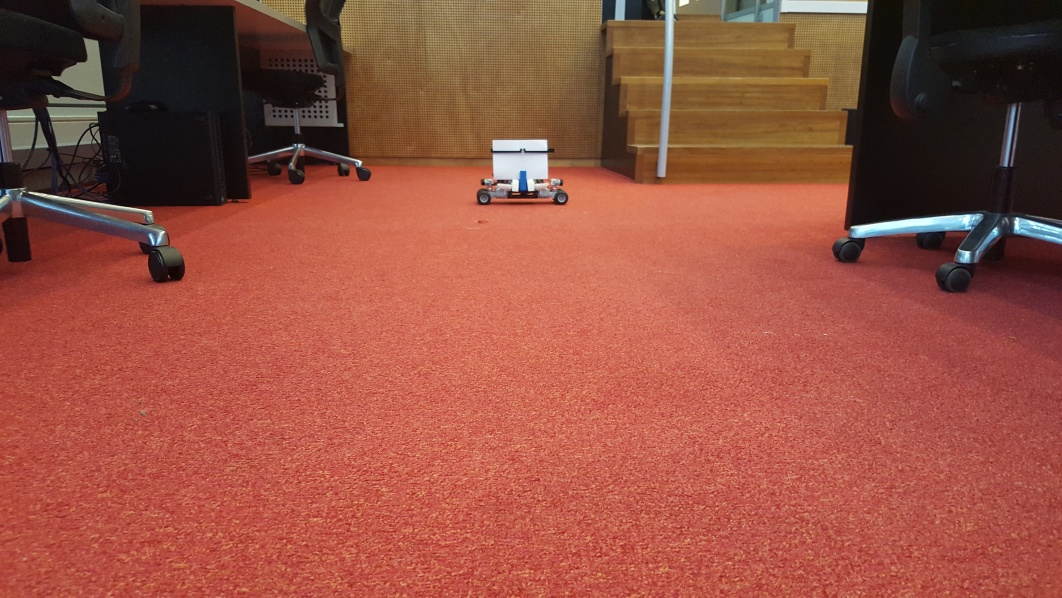car: (477, 136, 574, 204)
